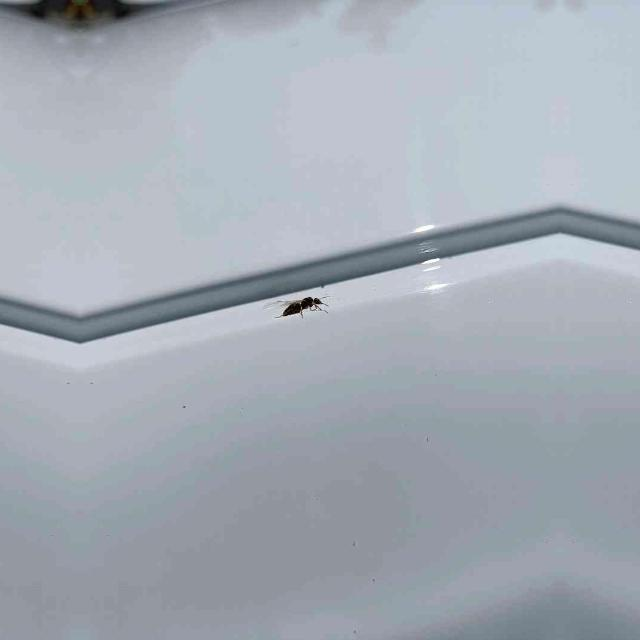Lasius: (264, 288, 328, 318)
